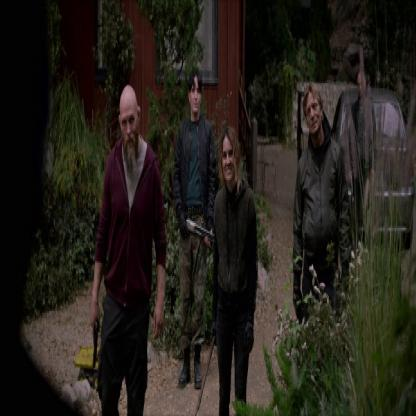Guns: (182, 213, 218, 250), (89, 316, 102, 373)
